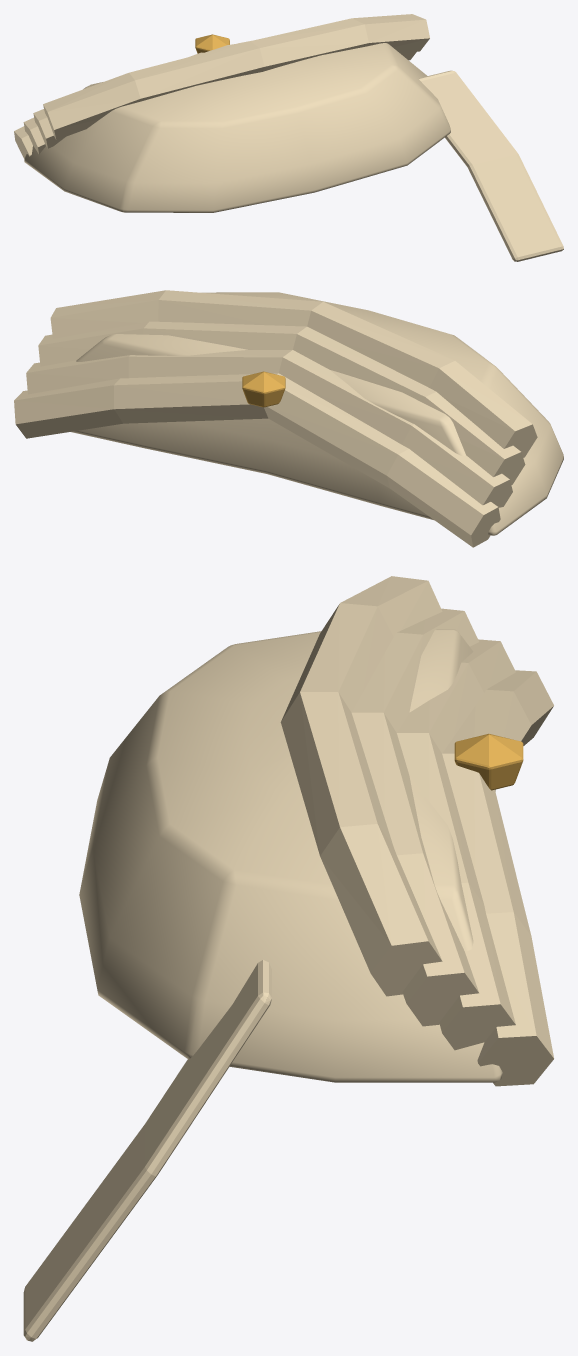
Rendered from turban.fbx.
3 renders of one model, top to bottom at view 1: azimuth 30°, elevation 25°; view 2: azimuth 150°, elevation 25°; view 3: azimuth 270°, elevation 25°, orthographic. The views are drawn at different scales.
Visible parts, largest first — view 1: turban_armor; view 2: turban_armor; view 3: turban_armor.
Part boxes in pixels (x1,y1,x2,y2): turban_armor: (14, 14, 563, 261); turban_armor: (14, 290, 563, 547); turban_armor: (23, 576, 554, 1341).
Bounding box in the file's own units: 4.35 × 2.05 × 2.34.
Materials: 1 (1 with a texture image).
